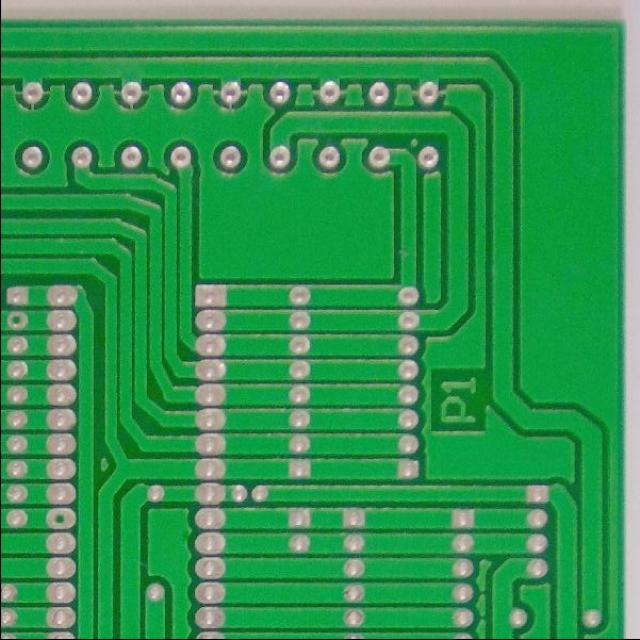missing_hole: (42, 509, 72, 531), (1, 310, 31, 332)
